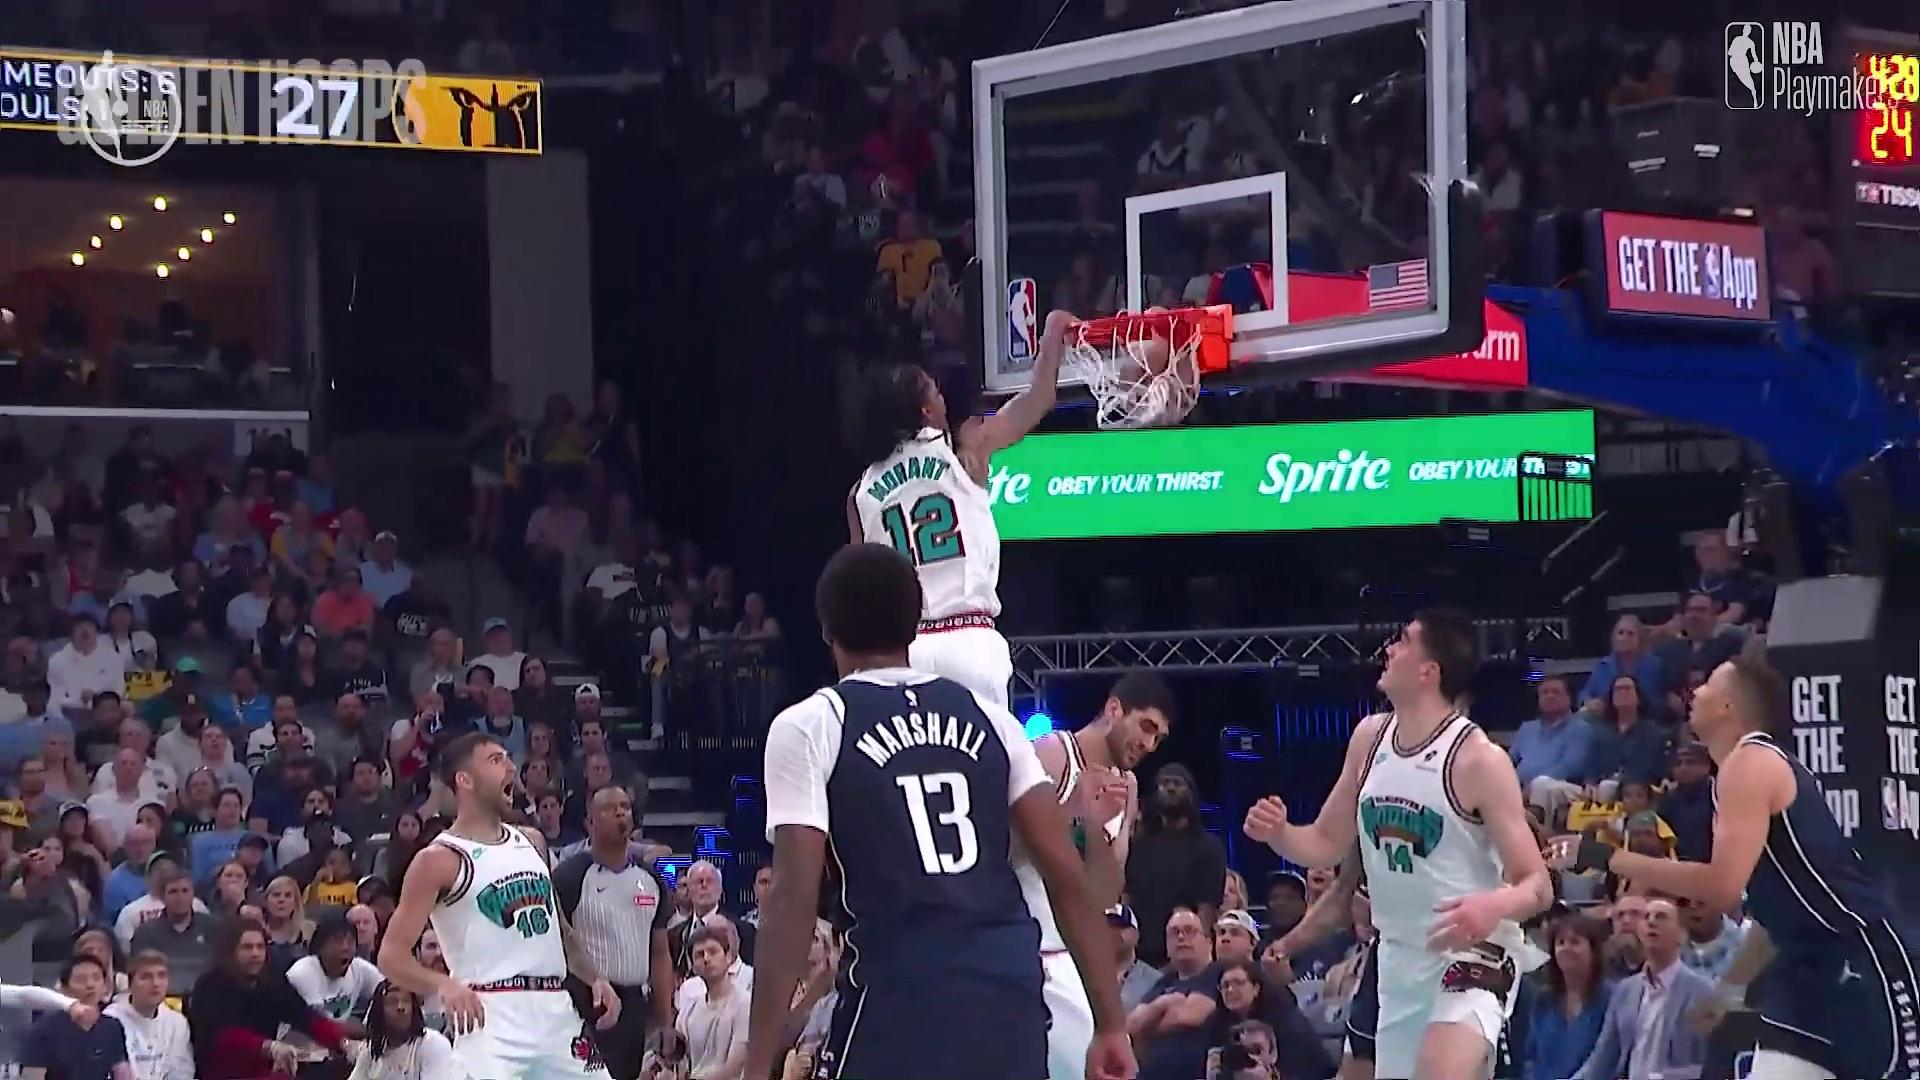ball: (1113, 345, 1187, 422)
hoop: (1062, 309, 1228, 419)
